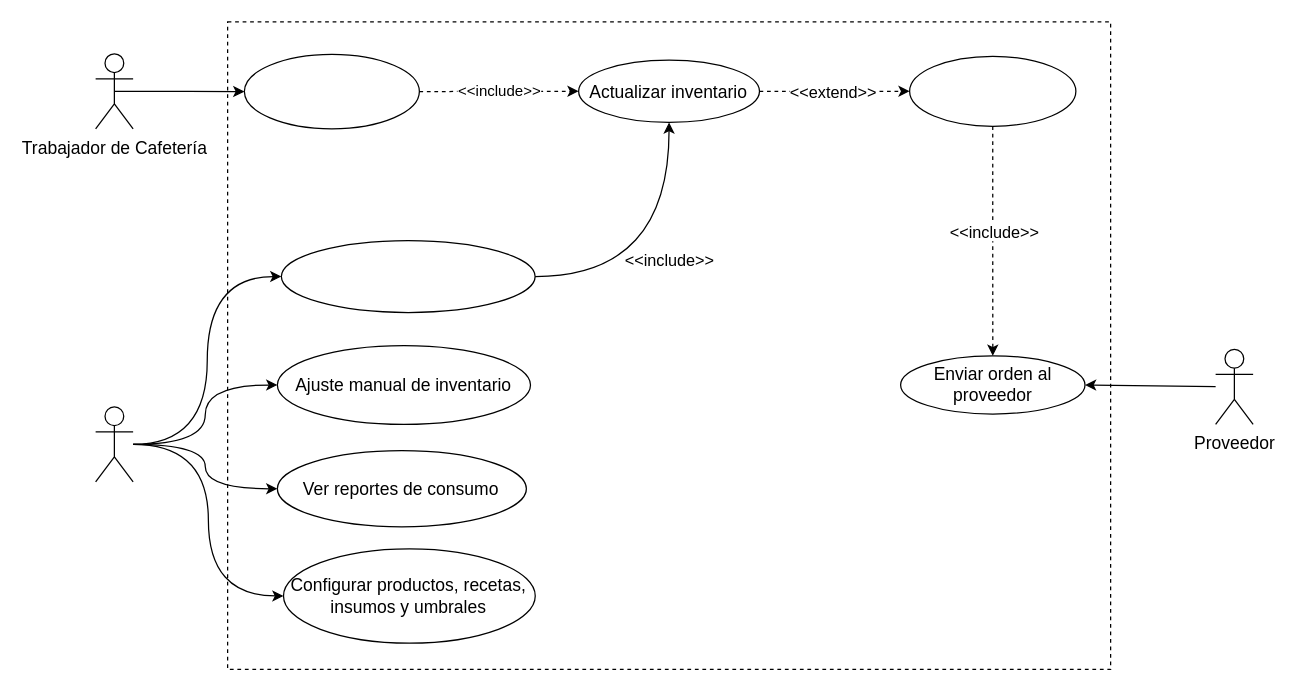
Some shapes in this 1296 by 691 pixel diagram are drawn without their labels. Here are the shapes that lost their labels. From the top down, the centre of each, then its label:
point (331, 91): Registrar venta del cafe
point (992, 90): Generar orden de reposición
point (407, 275): Registrar recepción del pedido
point (113, 444): Gerente De la Cadena
